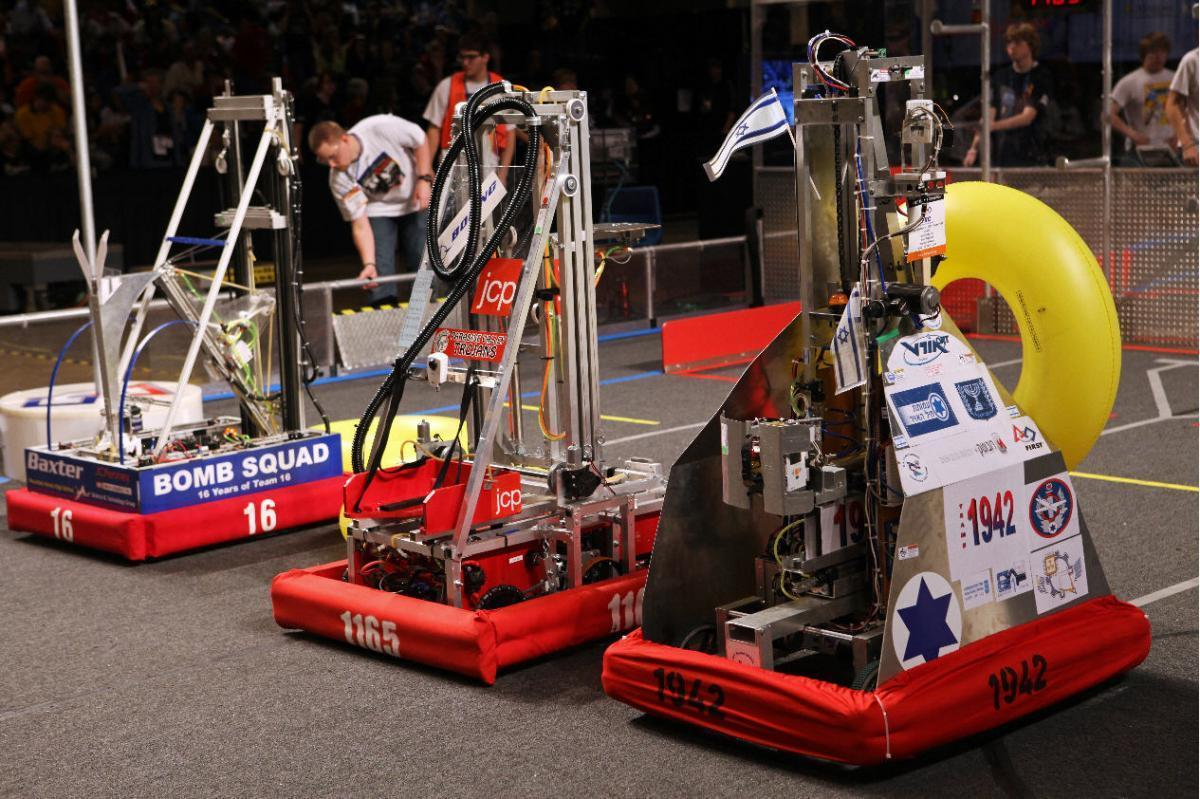robot: (602, 29, 1158, 778), (271, 70, 693, 697), (3, 64, 369, 567)
